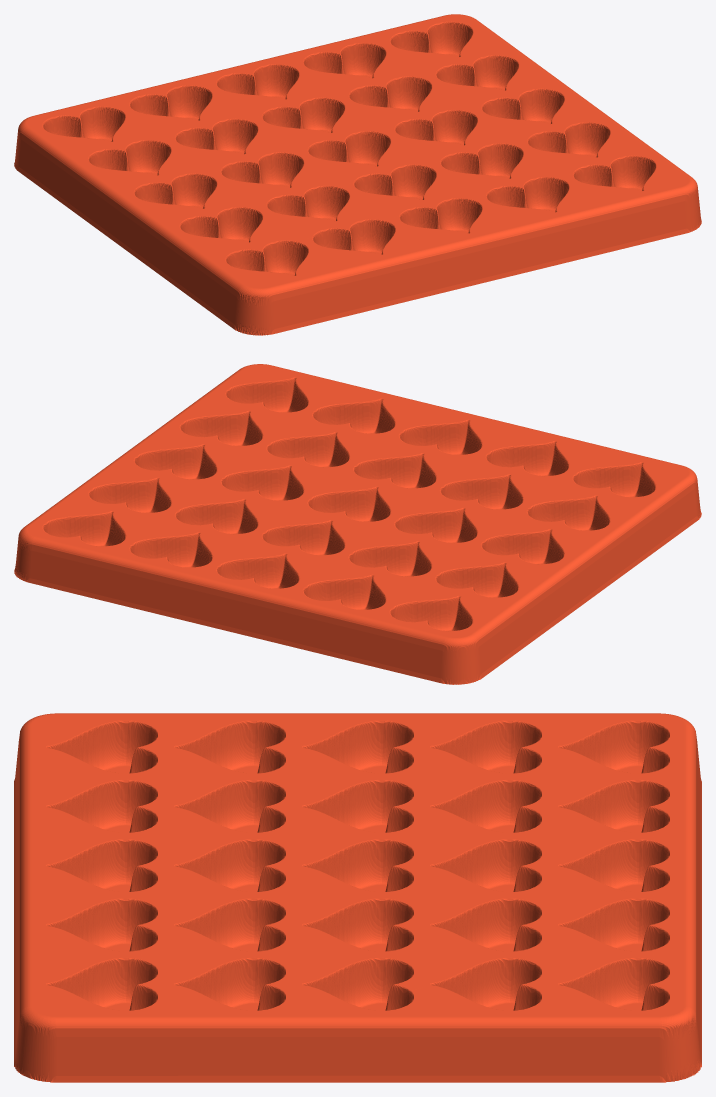
Rendered from mold.glb.
3 renders of one model, top to bottom at view 1: azimuth 30°, elevation 25°; view 2: azimuth 150°, elevation 25°; view 3: azimuth 270°, elevation 25°, orthographic. The views are drawn at different scales.
Parts seen in each view (by area): view 1: geometry_0; view 2: geometry_0; view 3: geometry_0.
Part boxes in pixels (x1=…): geometry_0: x1=14, y1=14, x2=701, y2=335; geometry_0: x1=14, y1=364, x2=701, y2=684; geometry_0: x1=14, y1=713, x2=701, y2=1082.
Bounding box in the file's own units: 0.1584 × 0.0136 × 0.1454.
